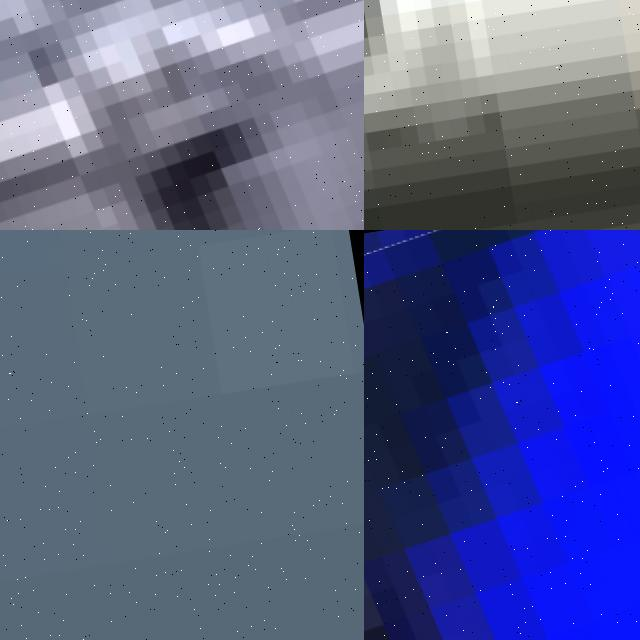drone: (364, 230, 640, 640), (0, 0, 364, 230)
